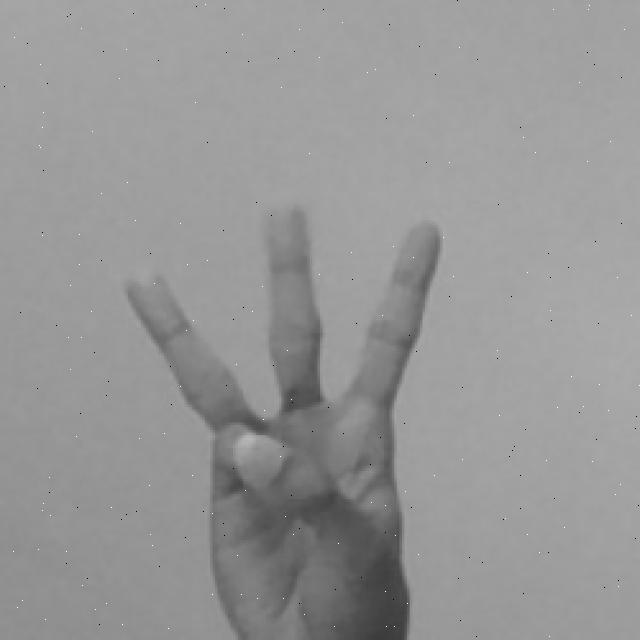W: (117, 189, 445, 640)
